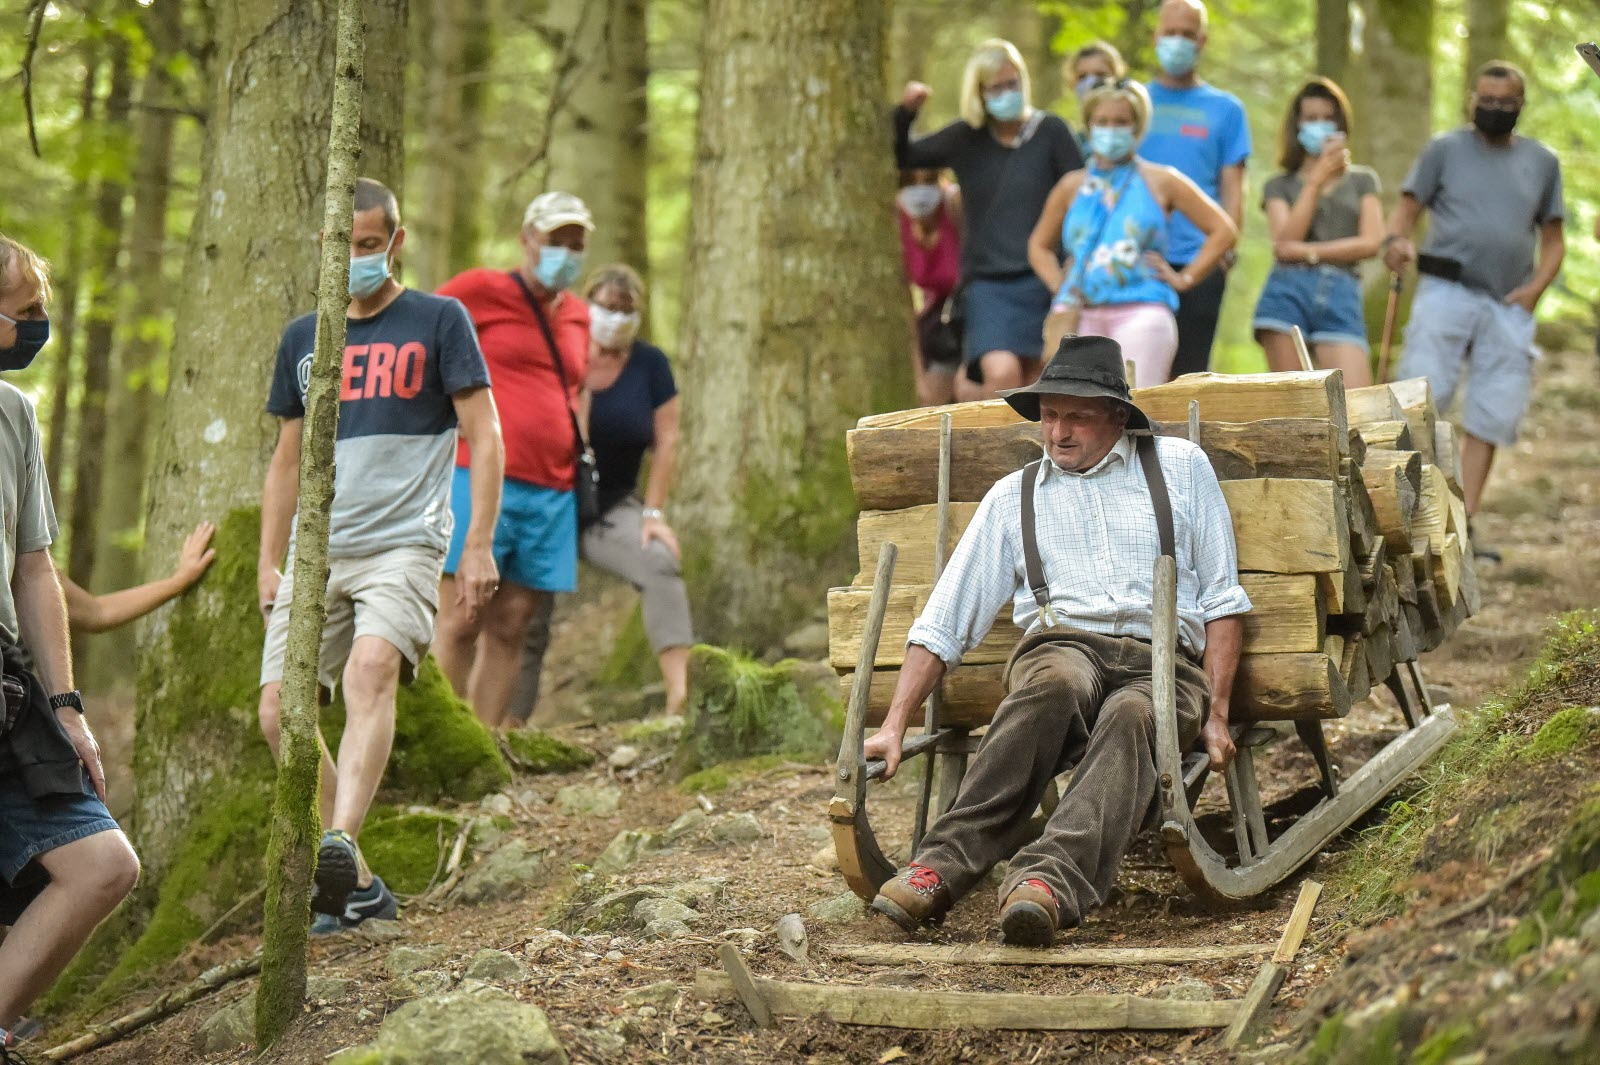with_mask: (4, 289, 51, 372), (527, 219, 582, 288), (352, 225, 399, 289), (1091, 102, 1142, 159), (589, 293, 642, 343), (1476, 80, 1518, 138), (1161, 16, 1199, 77), (1297, 102, 1344, 151), (983, 75, 1025, 114)
without_mask: (1039, 398, 1109, 469)
